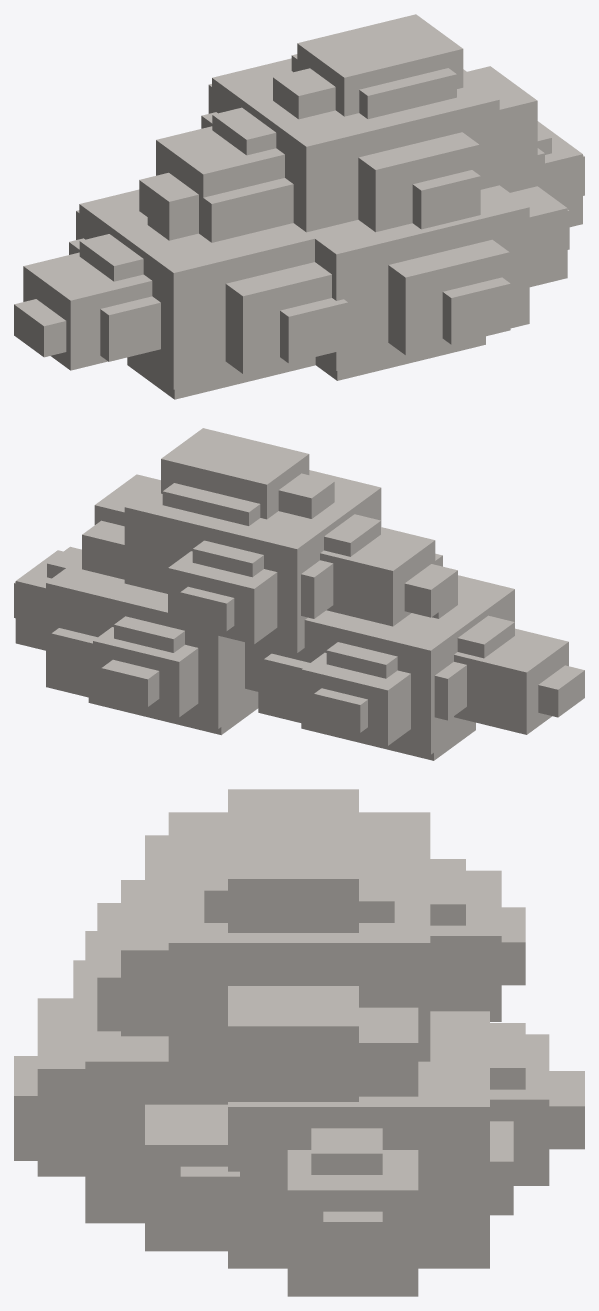
The model's file is Hospital-1.obj.
3 renders of one model, top to bottom at view 1: azimuth 30°, elevation 25°; view 2: azimuth 150°, elevation 25°; view 3: azimuth 270°, elevation 25°, orthographic. The views are drawn at different scales.
Bounding box in the file's own units: 7.8 × 3.5 × 4.8.
Materials: 1 (1 with a texture image).
